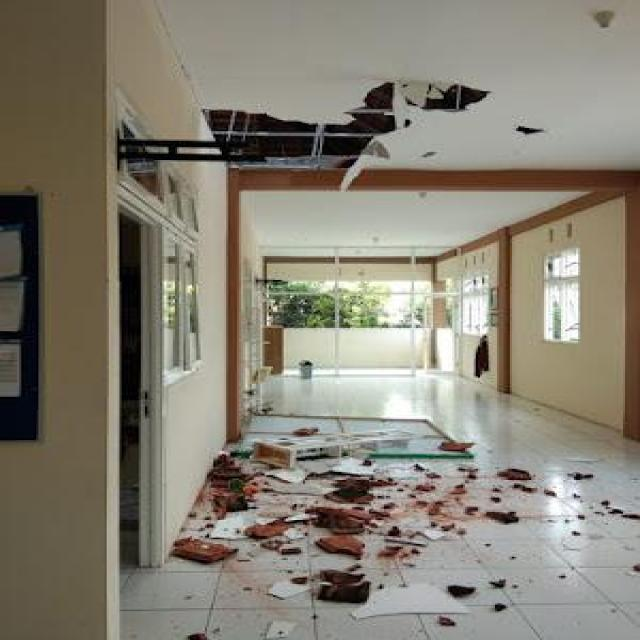damage: (143, 395, 640, 640), (179, 53, 556, 190)
